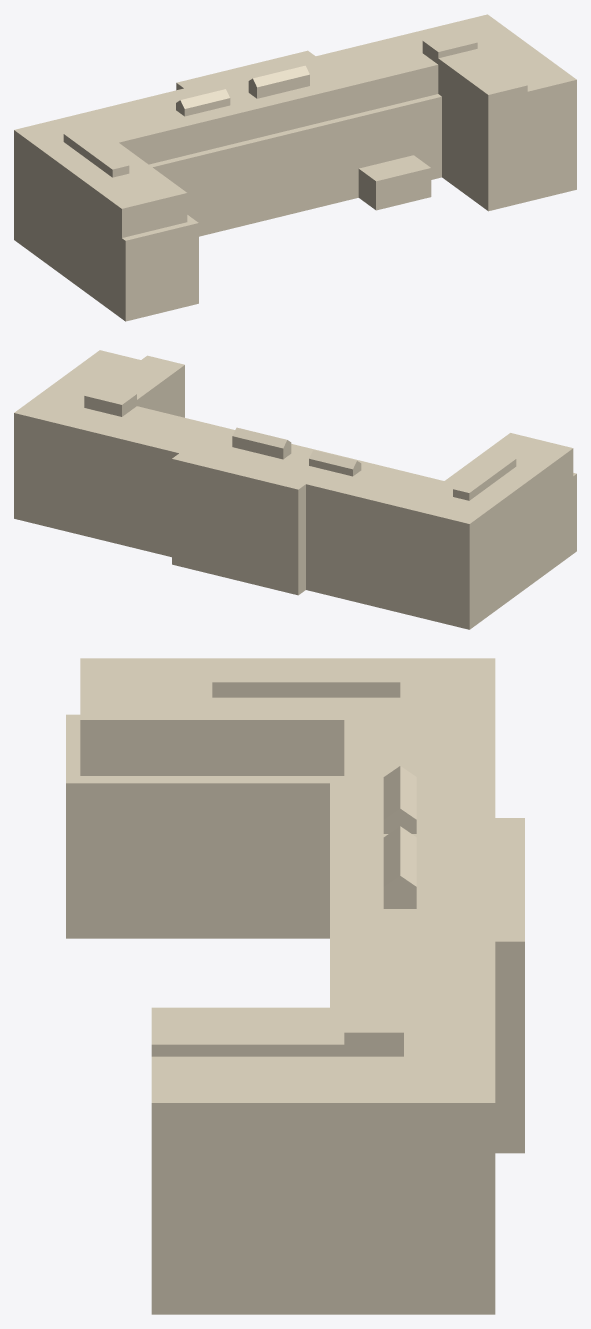
File: SM_School_of_Mines.fbx
3 renders of one model, top to bottom at view 1: azimuth 30°, elevation 25°; view 2: azimuth 150°, elevation 25°; view 3: azimuth 270°, elevation 25°, orthographic. The views are drawn at different scales.
Visible parts, largest first — view 1: SM_School_of_Mines; view 2: SM_School_of_Mines; view 3: SM_School_of_Mines.
Part boxes in pixels (x1,y1,x2,y2): SM_School_of_Mines: (14, 14, 576, 321); SM_School_of_Mines: (14, 350, 576, 629); SM_School_of_Mines: (66, 658, 524, 1314).
Bounding box in the file's own units: 142 × 36.58 × 62.18.
